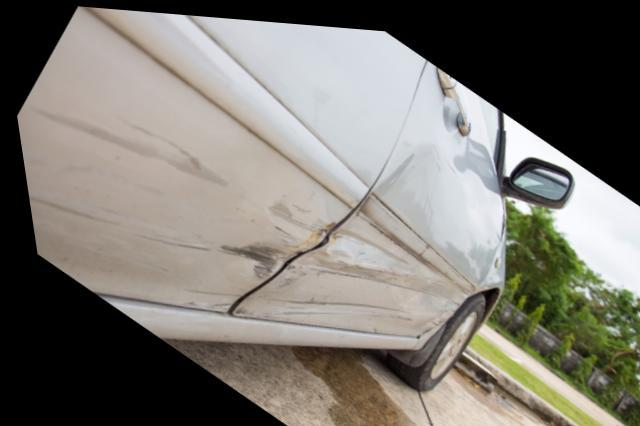dent: (223, 208, 459, 332), (224, 180, 324, 275), (370, 138, 435, 230)
scratch: (13, 98, 257, 310)
